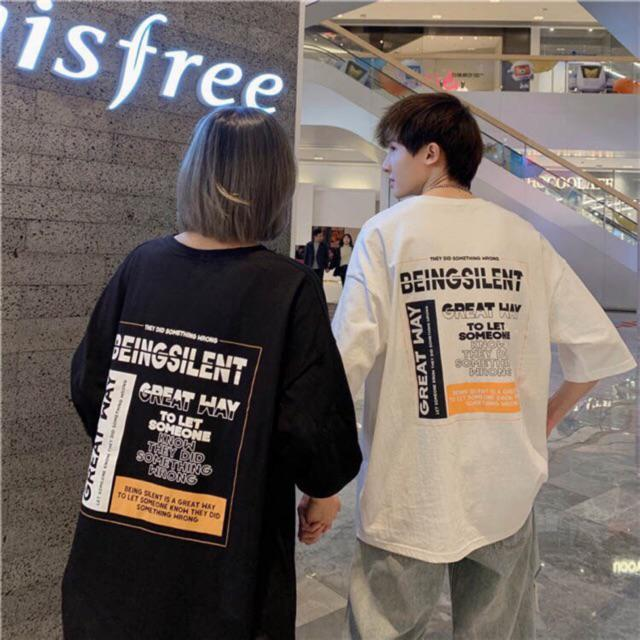Shirt: (63, 237, 360, 639), (329, 194, 639, 561)
